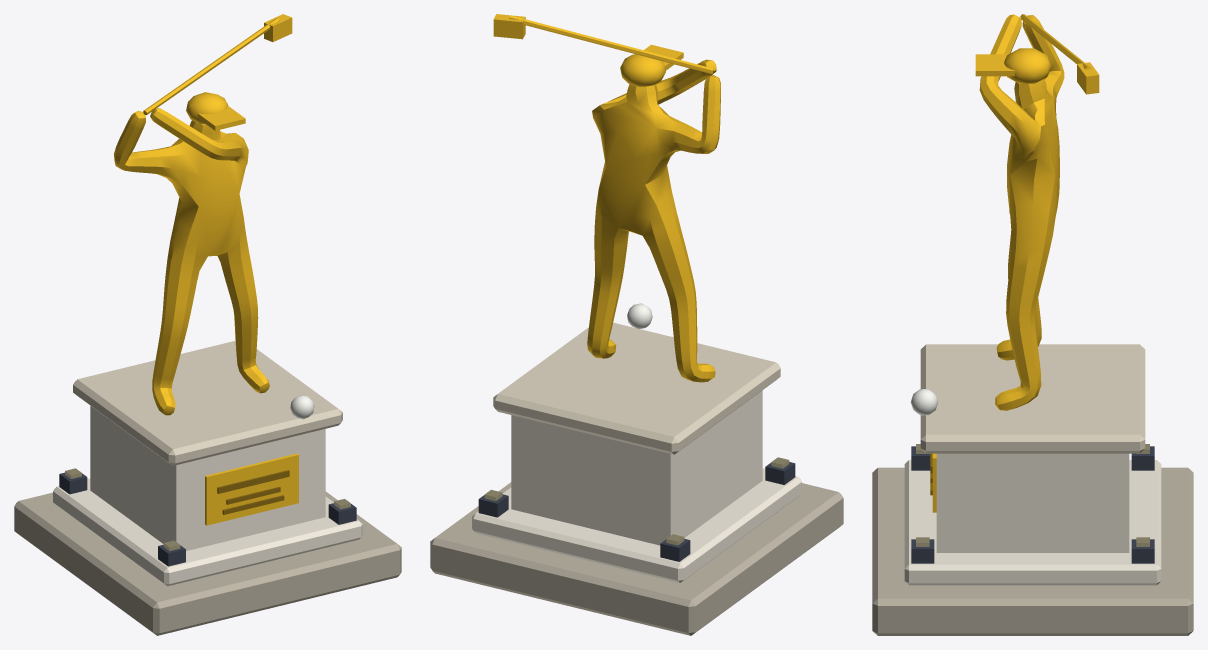
Rendered from statue.glb.
3 renders of one model, left to right at view 1: azimuth 30°, elevation 25°; view 2: azimuth 150°, elevation 25°; view 3: azimuth 270°, elevation 25°, orthographic. The views are drawn at different scales.
Parts seen in each view (by area): view 1: statue; view 2: statue; view 3: statue.
Boxes of the visible parts, x1,y1,x2,y2 form: statue: (14, 14, 401, 635); statue: (430, 14, 843, 635); statue: (872, 14, 1193, 635).
Size of the model in its own units: 7 by 13.36 by 7.
2 materials, 2 textured.
